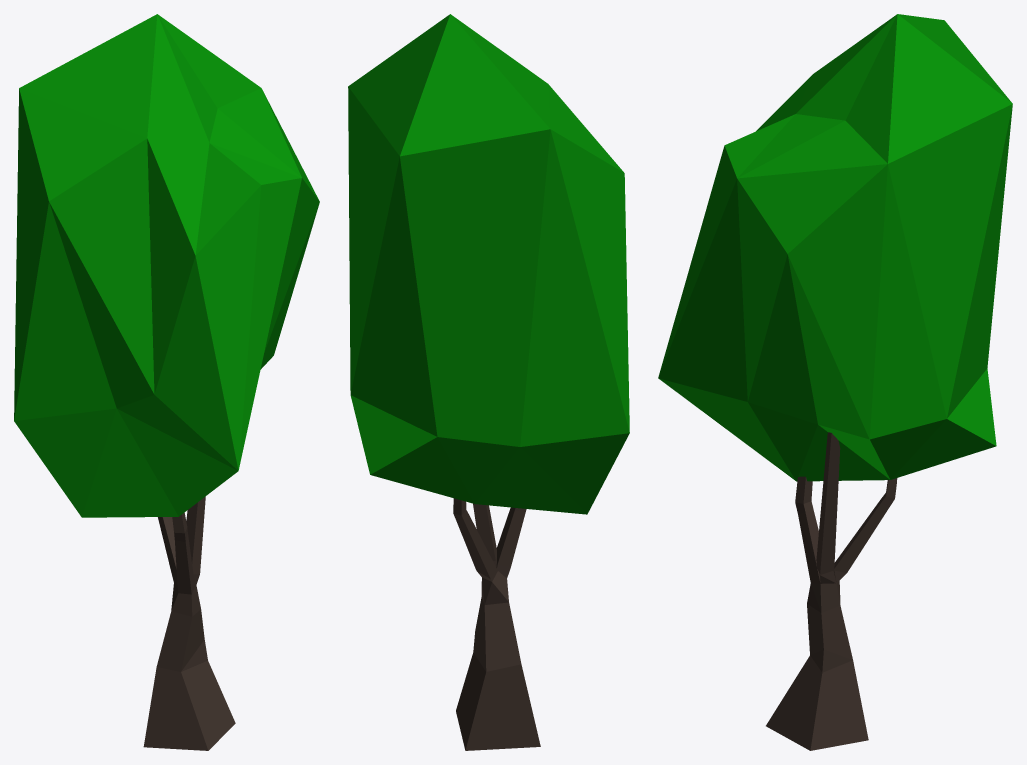
3 views of the same model, side by side, from view 1: azimuth 30°, elevation 25°; view 2: azimuth 150°, elevation 25°; view 3: azimuth 270°, elevation 25° (orthographic). The views are drawn at different scales.
Visible parts, largest first — view 1: Icosphere, Vert; view 2: Icosphere, Vert; view 3: Icosphere, Vert.
Boxes of the visible parts, x1=… form: Icosphere: x1=14, y1=14, x2=319, y2=517; Vert: x1=143, y1=496, x2=235, y2=750; Icosphere: x1=348, y1=14, x2=629, y2=514; Vert: x1=453, y1=498, x2=540, y2=750; Icosphere: x1=658, y1=14, x2=1012, y2=481; Vert: x1=766, y1=432, x2=897, y2=750.
Size of the model in its own units: 941 by 2359 by 1044.
